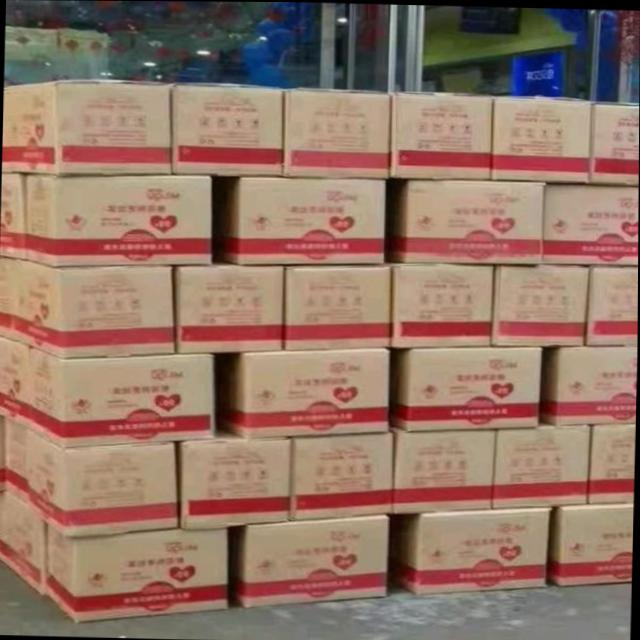box: (23, 347, 216, 448), (23, 172, 212, 266), (44, 527, 228, 621), (25, 427, 179, 538), (2, 79, 173, 174), (13, 260, 175, 358), (231, 513, 390, 608), (221, 176, 385, 265), (229, 347, 391, 437), (390, 179, 544, 265), (402, 506, 552, 594), (390, 346, 543, 431), (178, 428, 291, 530), (172, 82, 283, 176), (175, 263, 285, 353), (282, 87, 390, 178), (288, 432, 392, 521), (391, 426, 495, 513), (391, 91, 492, 180), (284, 265, 391, 349), (492, 94, 592, 182), (389, 264, 492, 348), (541, 184, 639, 265), (492, 263, 588, 345), (492, 425, 588, 507), (541, 345, 636, 423), (548, 502, 633, 585), (0, 492, 47, 594), (585, 263, 638, 344), (591, 99, 639, 185), (588, 423, 636, 504), (0, 338, 27, 427), (3, 417, 28, 509), (0, 172, 24, 260), (0, 258, 19, 340)
